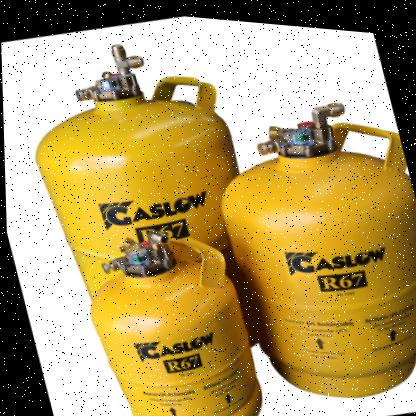gas-tank: (3, 33, 282, 345), (180, 73, 415, 415), (61, 208, 287, 415)
